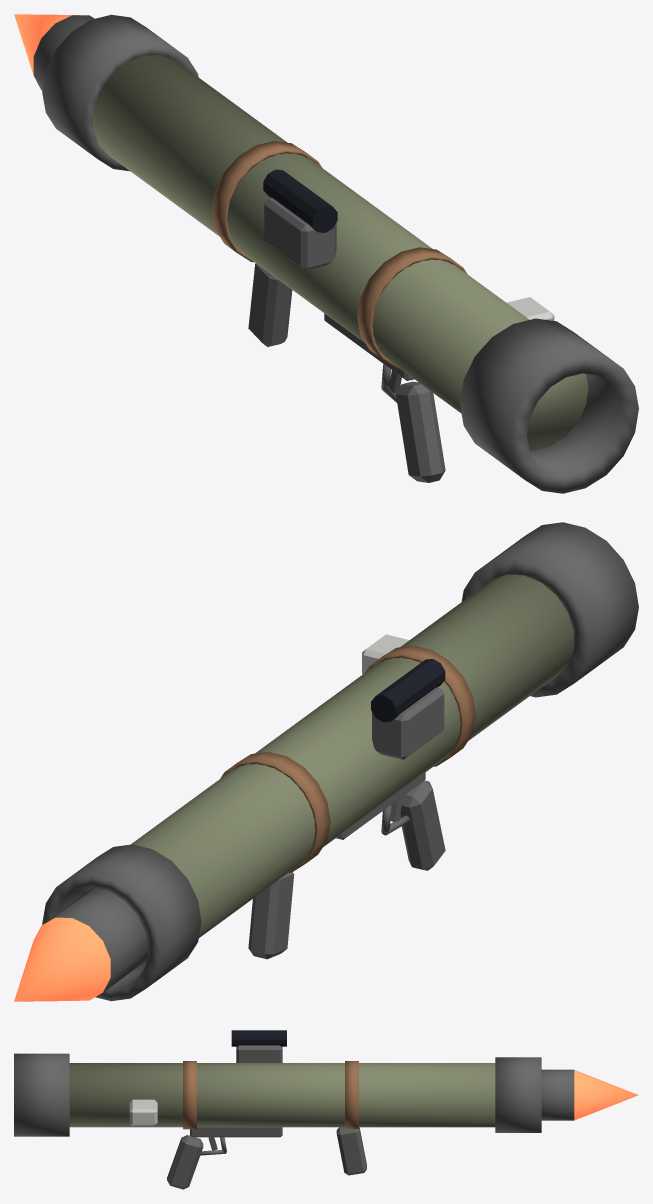
The model's file is rpg.glb.
3 views of the same model, one above another, from view 1: azimuth 30°, elevation 25°; view 2: azimuth 150°, elevation 25°; view 3: azimuth 270°, elevation 25° (orthographic). The views are drawn at different scales.
Visible parts, largest first — view 1: body, rocket; view 2: body, rocket; view 3: body, rocket.
Boxes of the visible parts, box(x1,y1,x2,y2) form: body: box(42, 14, 638, 493); rocket: box(14, 14, 94, 90); body: box(42, 522, 638, 1001); rocket: box(14, 887, 148, 1001); body: box(14, 1030, 541, 1189); rocket: box(541, 1069, 638, 1120).
Bounding box in the file's own units: 0.22 × 0.3397 × 1.35.
